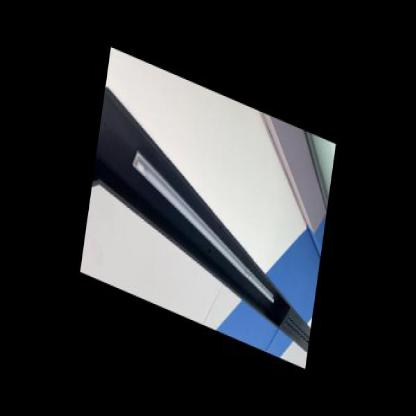light_off: (117, 130, 292, 312)
